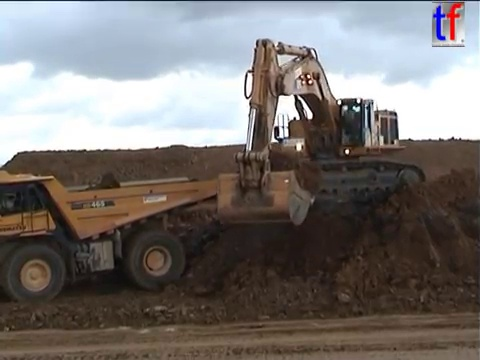excavator: (212, 35, 428, 228)
truck: (1, 166, 229, 305)
